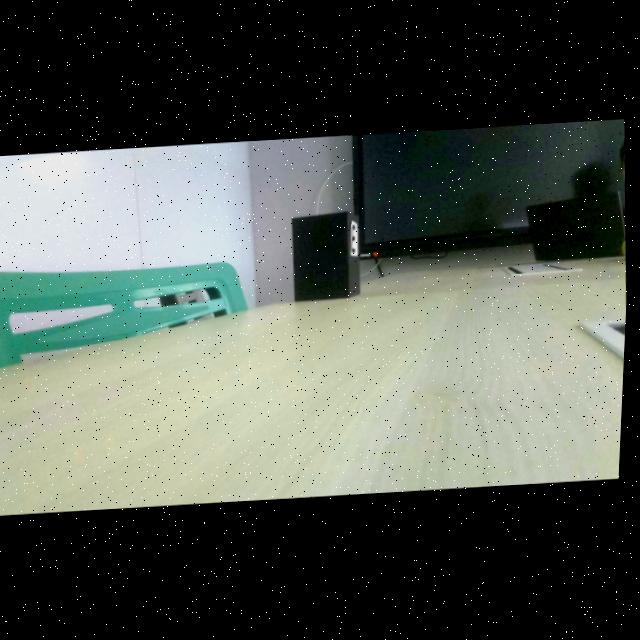E: (355, 225, 359, 254)
